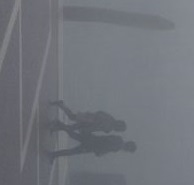person: (48, 98, 130, 135), (48, 132, 135, 162)
